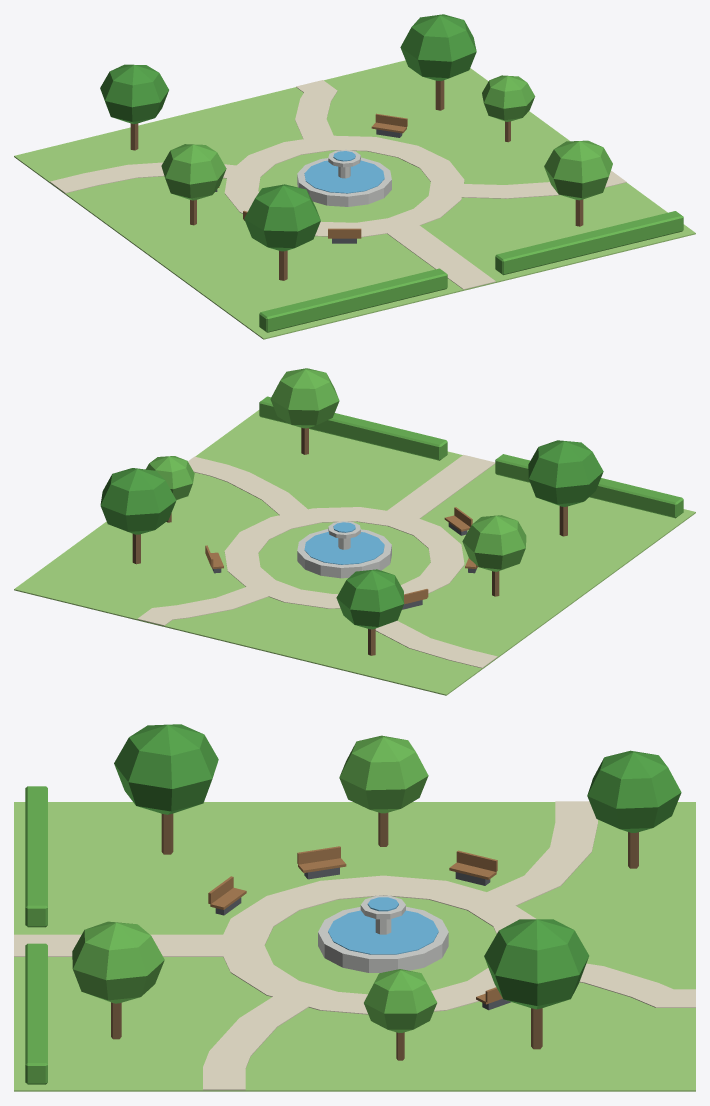
The model's file is park.glb.
The picture shows the model from 3 angles, top to bottom: view 1: azimuth 30°, elevation 25°; view 2: azimuth 150°, elevation 25°; view 3: azimuth 270°, elevation 25°; orthographic projection. The views are drawn at different scales.
Visible parts, largest first — view 1: park; view 2: park; view 3: park.
Boxes of the visible parts, x1,y1,x2,y2 form: park: [14, 14, 695, 339]; park: [14, 368, 695, 695]; park: [14, 724, 695, 1091].
Size of the model in its own units: 24 by 5.01 by 24.
